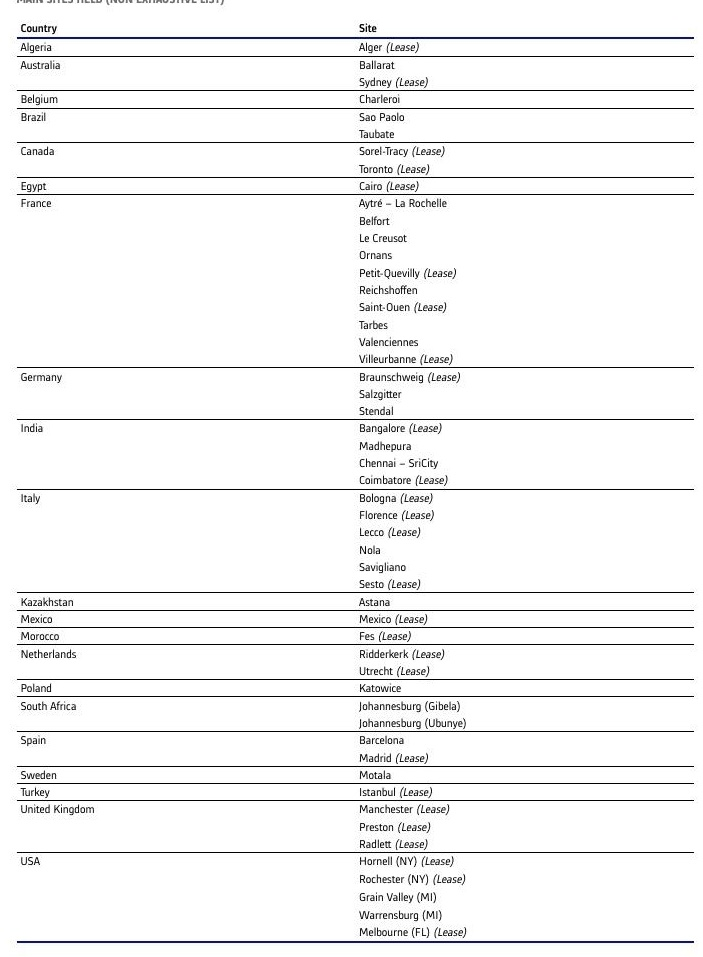table: (0, 0, 703, 957)
